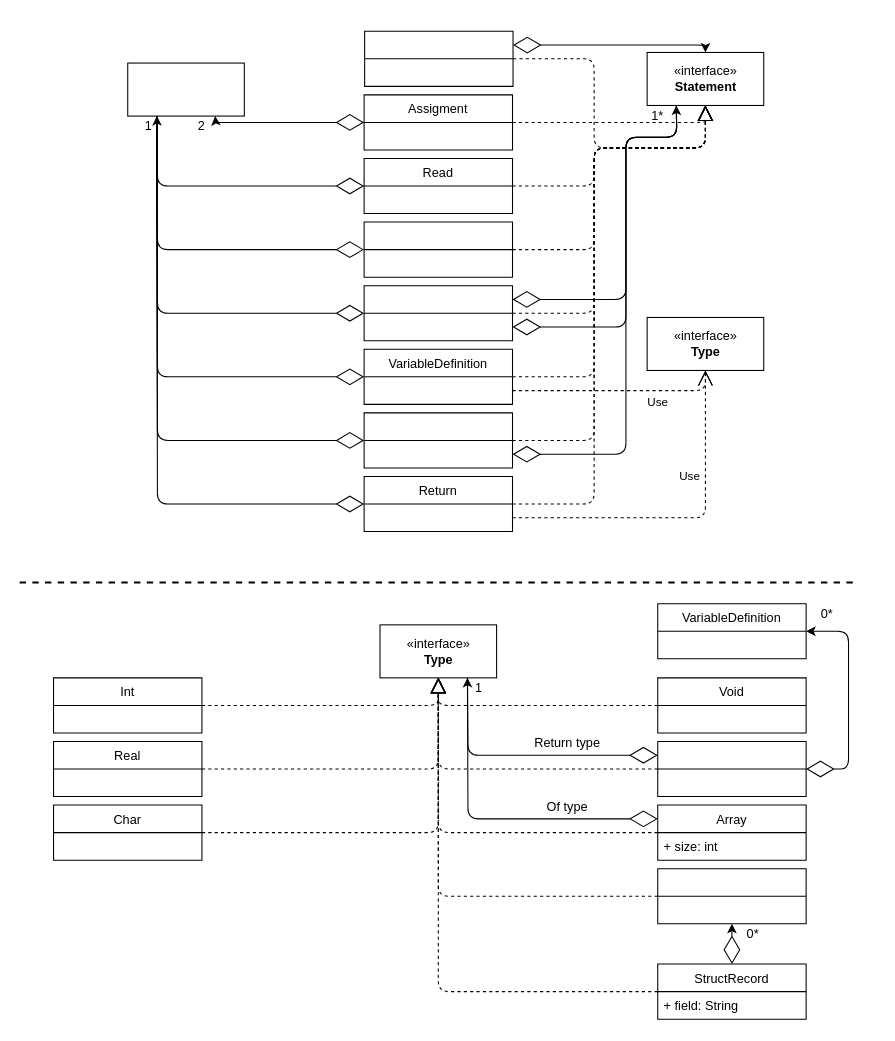
Image size: 895x1041. Some labels were removed from this diagram. Each missing label, with the centre of its shape:
FunctionDefinition: (x=438, y=58)
FunctionType: (x=731, y=768)
If: (x=438, y=313)
Struct: (x=731, y=896)
While: (x=438, y=440)
Write: (x=438, y=249)
«interface» Expression: (x=185, y=89)
